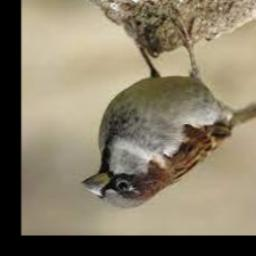Sparrow: (80, 16, 256, 208)
